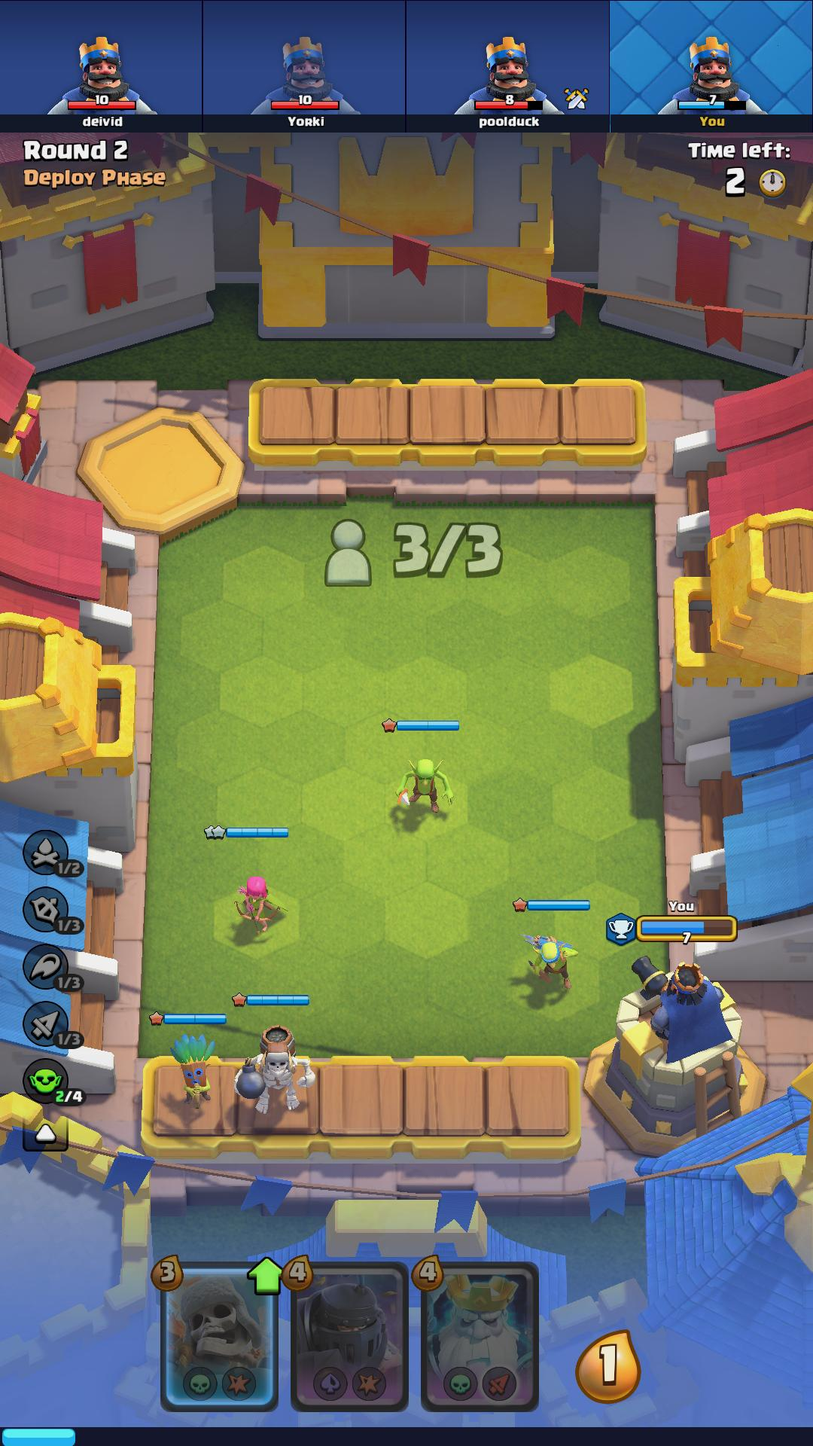archer: (230, 870, 288, 937)
dart: (167, 1031, 217, 1114)
giant: (237, 1017, 316, 1118)
goblin: (387, 744, 454, 822)
hand-ghost: (418, 1255, 541, 1407)
hand-giant: (164, 1258, 277, 1411)
hand-mega: (289, 1259, 413, 1410)
spear: (518, 922, 586, 994)
upgrade: (250, 1253, 284, 1298)
